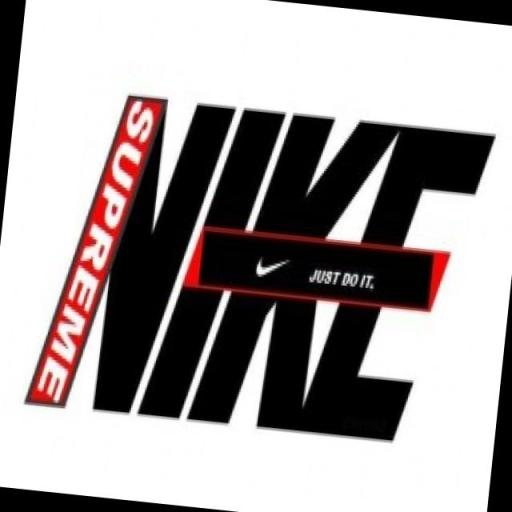Nike: (249, 256, 291, 284)
